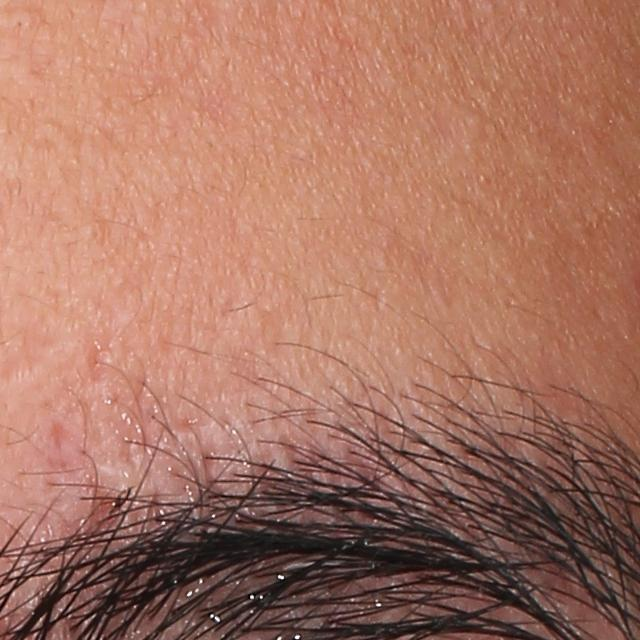atrophic_scar: (84, 338, 112, 387), (44, 419, 64, 457)
